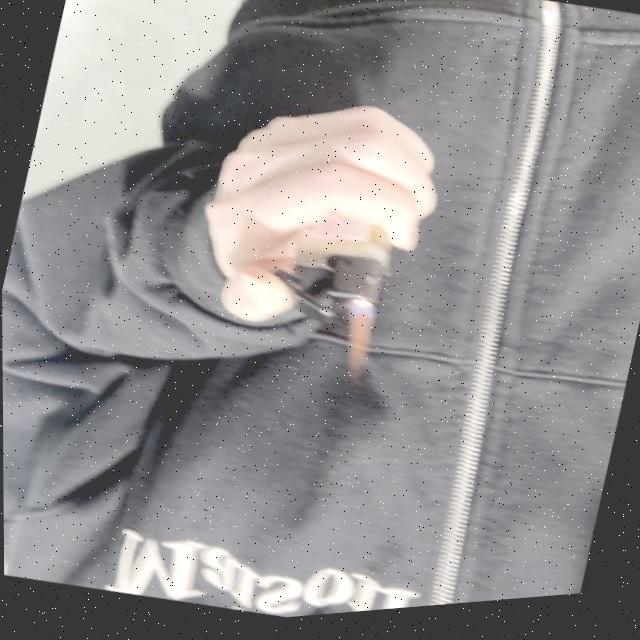Fire: (337, 308, 376, 382)
